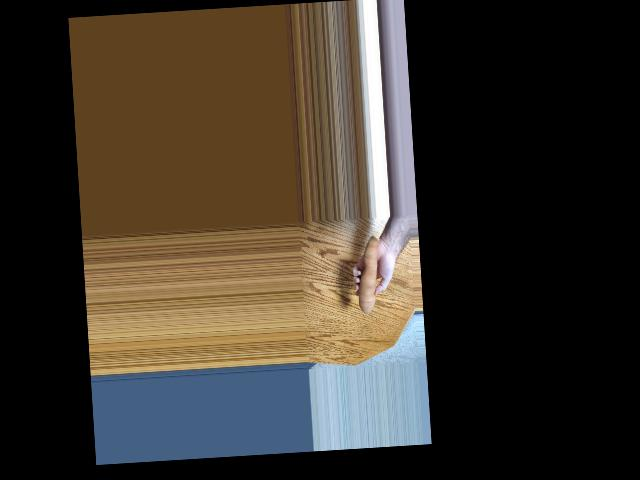sweet_potato: (349, 239, 384, 314)
